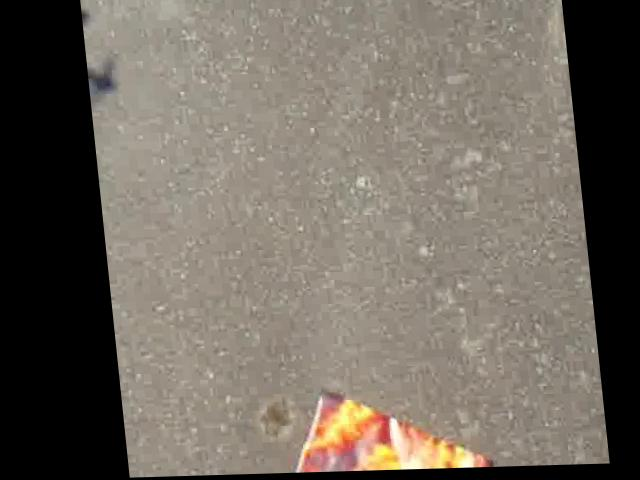fire-poster: (261, 392, 481, 475)
